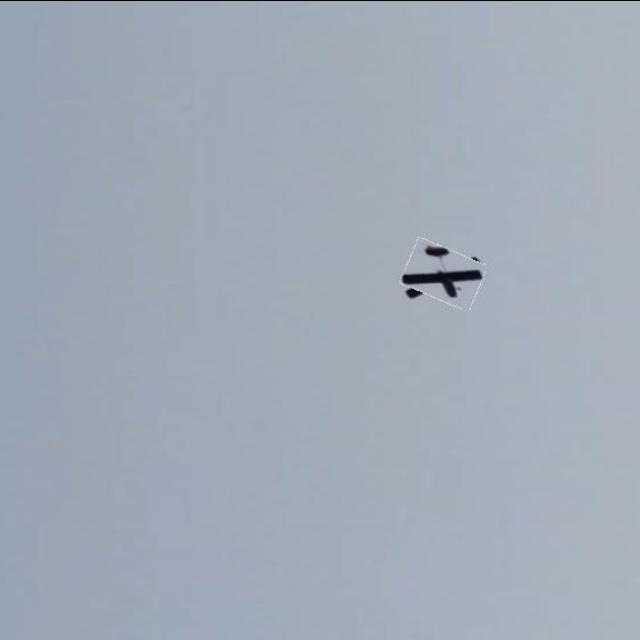plane: (401, 233, 486, 310)
